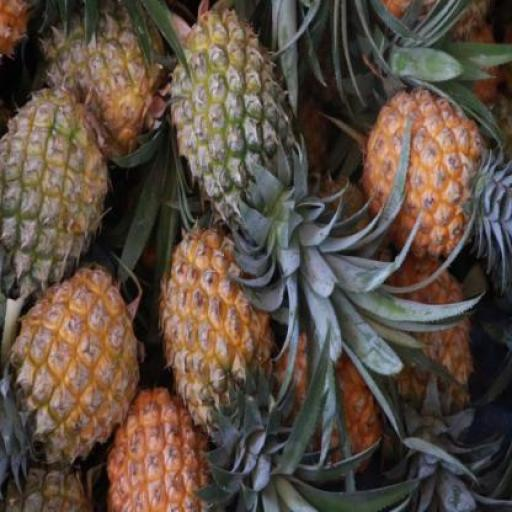------------------------------: (167, 6, 299, 229), (0, 95, 106, 288), (47, 0, 167, 158)
Pineapple - v8 v1: (13, 266, 137, 464), (158, 234, 275, 432), (362, 87, 482, 271), (109, 391, 220, 512)
